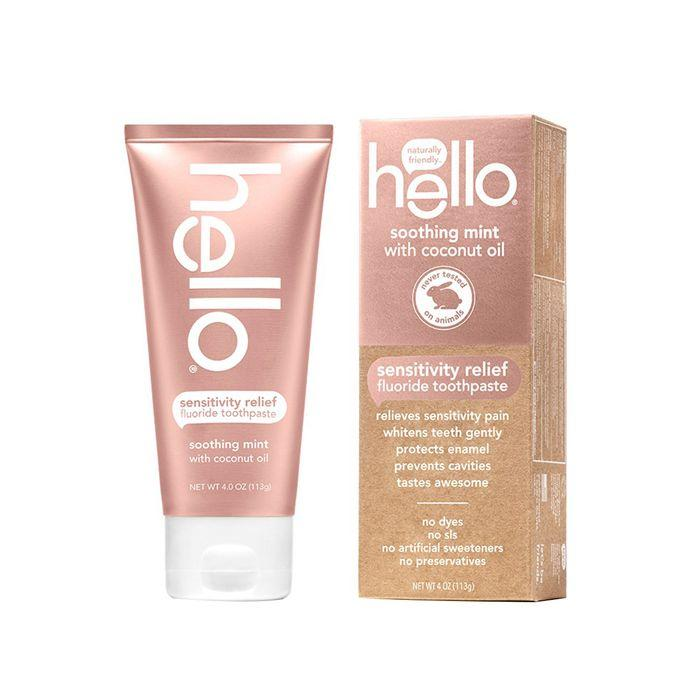toothpaste: (342, 108, 611, 640), (114, 113, 354, 621)
